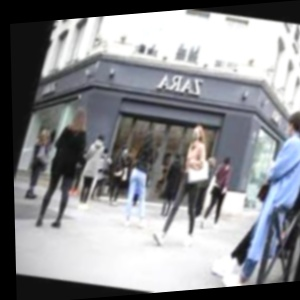zara: (141, 31, 280, 99)
